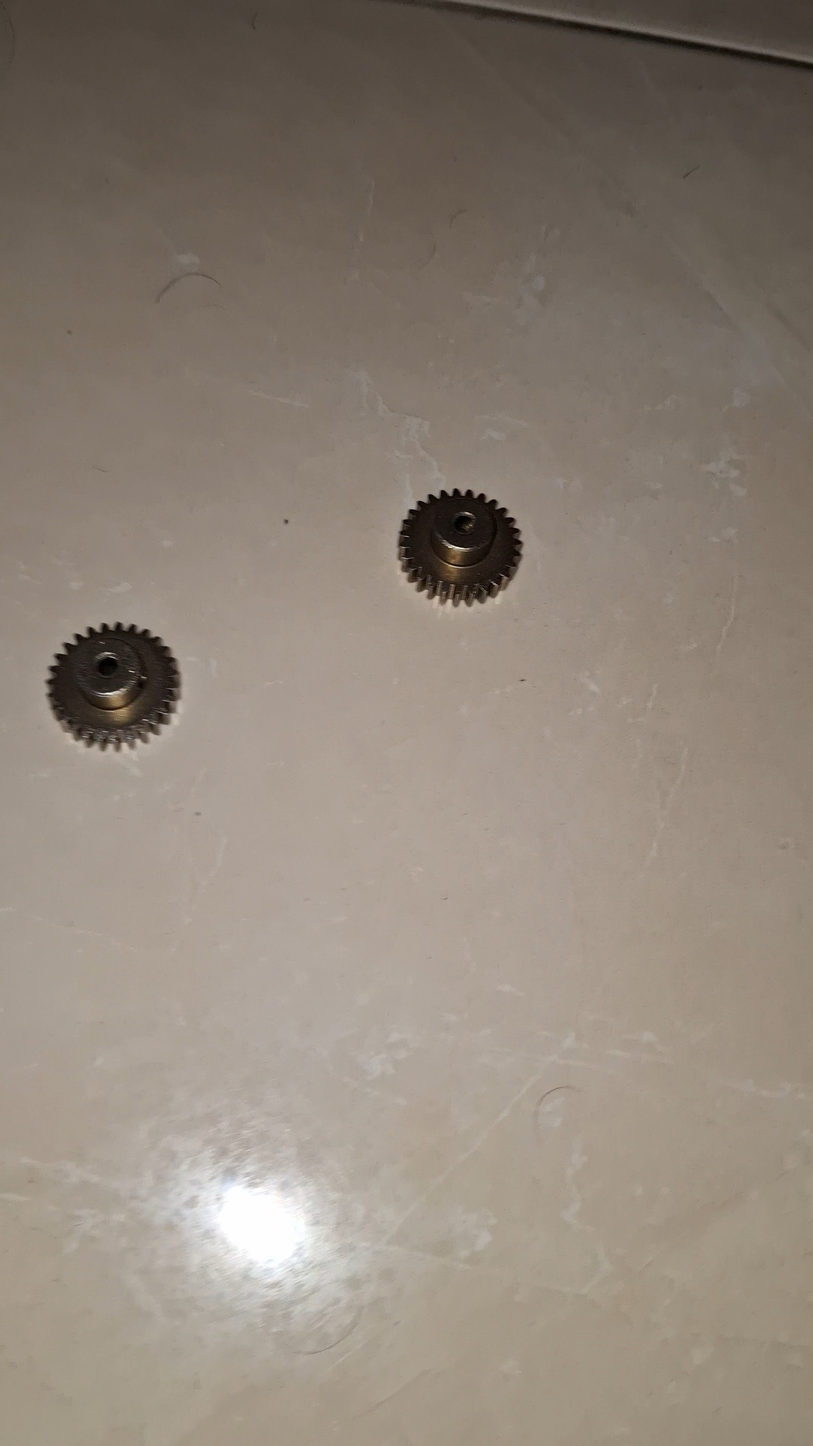spur gear: (48, 624, 180, 749), (399, 489, 521, 604)
